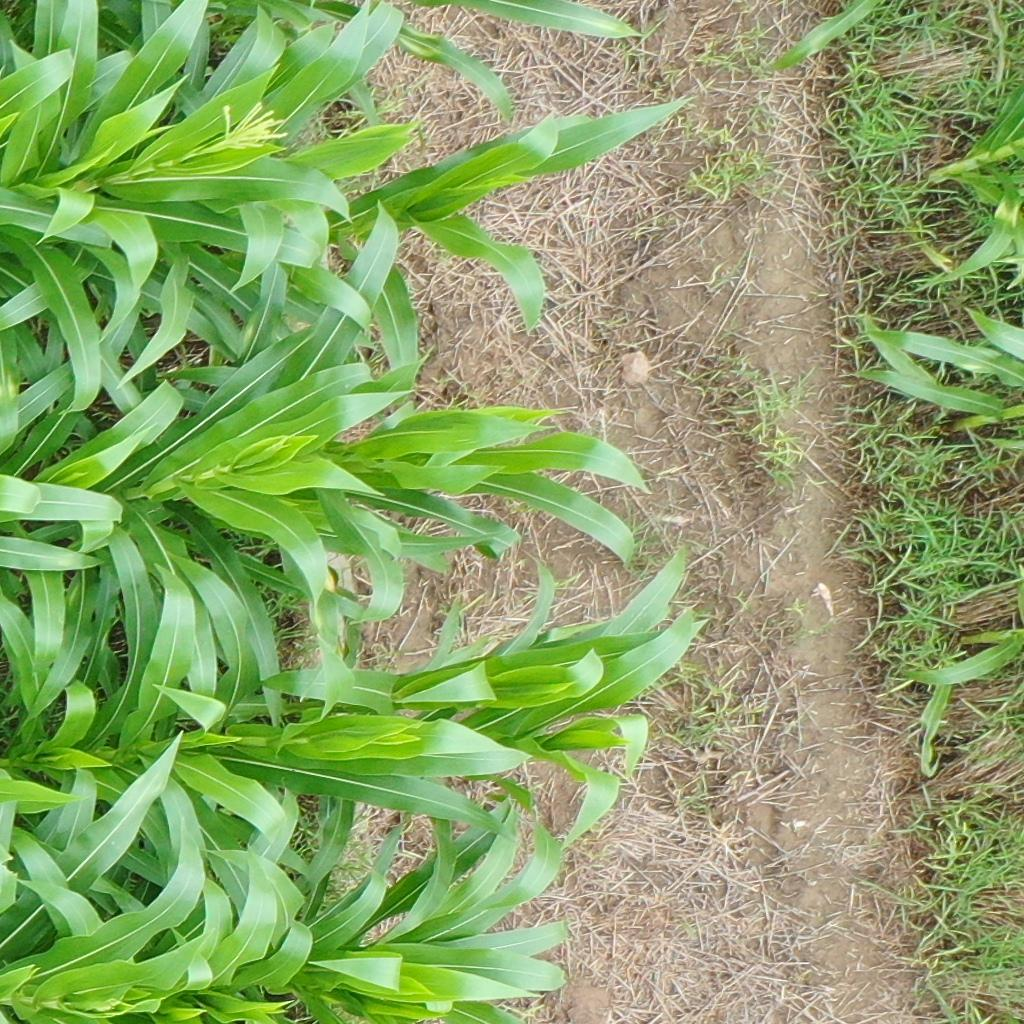Tassel: (214, 101, 288, 151)
